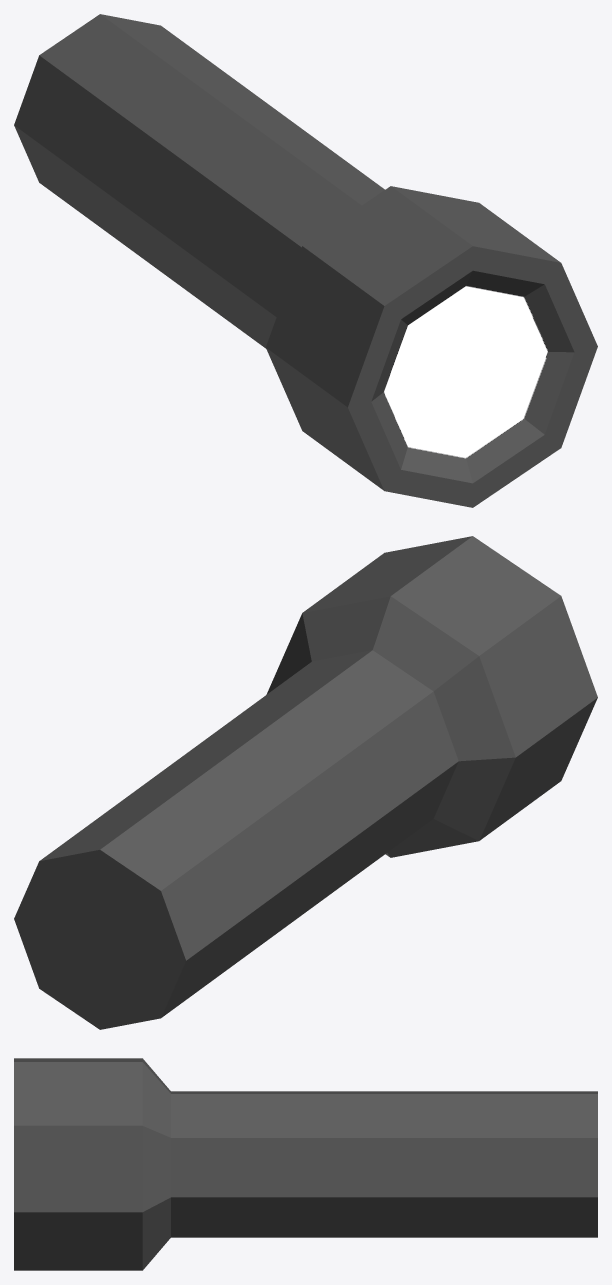
The model's file is flashlight.fbx.
3 views of the same model, one above another, from view 1: azimuth 30°, elevation 25°; view 2: azimuth 150°, elevation 25°; view 3: azimuth 270°, elevation 25° (orthographic). The views are drawn at different scales.
Parts seen in each view (by area): view 1: Cylinder; view 2: Cylinder; view 3: Cylinder.
Part boxes in pixels (x1=…): Cylinder: x1=14, y1=14, x2=597, y2=507; Cylinder: x1=14, y1=536, x2=597, y2=1029; Cylinder: x1=14, y1=1058, x2=597, y2=1270.
Size of the model in its own units: 11.62 by 11.62 by 30.
